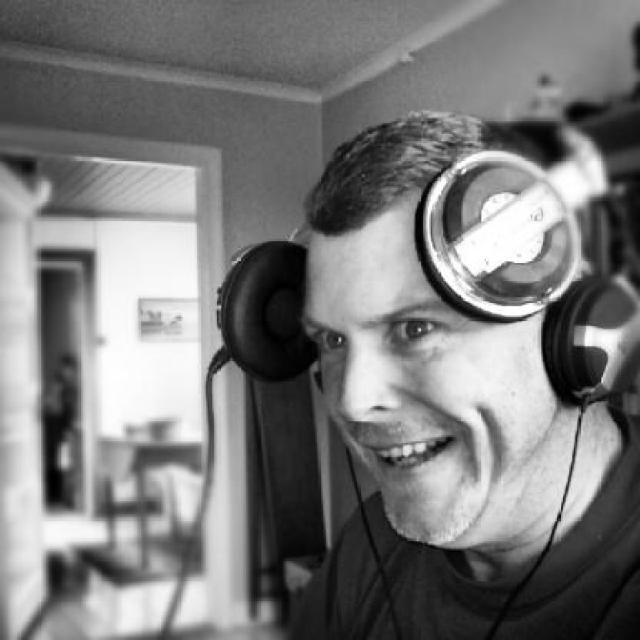earphone: (190, 148, 630, 377)
